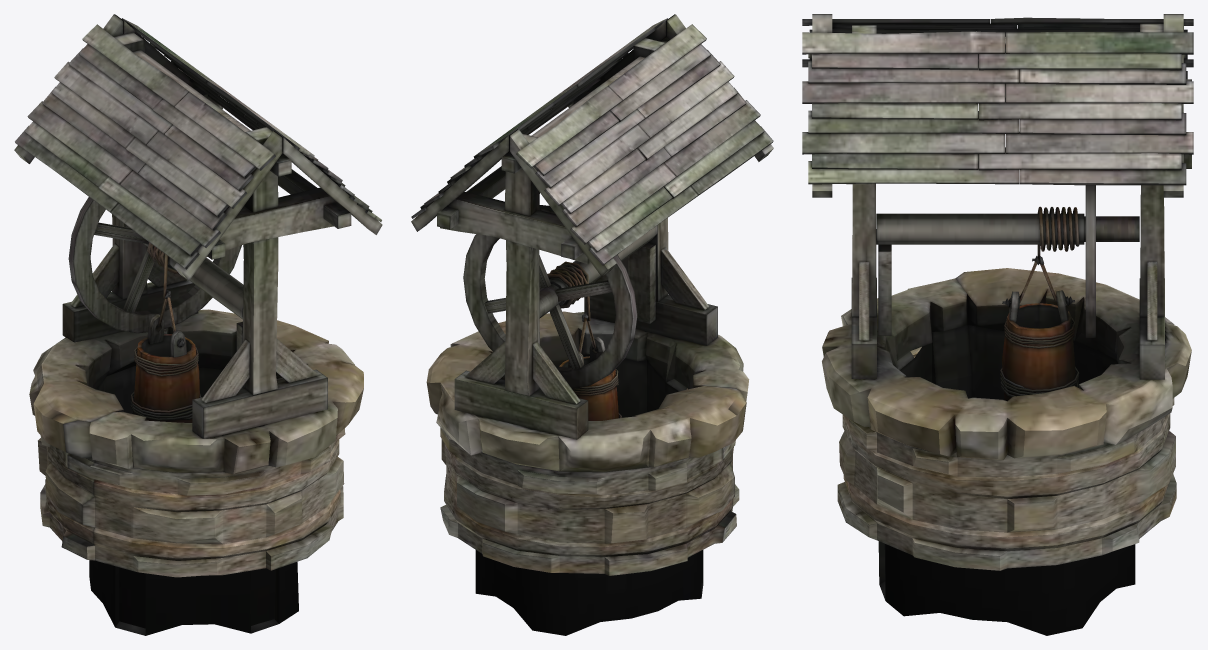
Rendered from p_well_bucket.glb.
The picture shows the model from 3 angles, left to right: view 1: azimuth 30°, elevation 25°; view 2: azimuth 150°, elevation 25°; view 3: azimuth 270°, elevation 25°; orthographic projection. The views are drawn at different scales.
Visible parts, largest first — view 1: blinn4; view 2: blinn4; view 3: blinn4.
Boxes of the visible parts, x1=… form: blinn4: x1=14, y1=14, x2=382, y2=635; blinn4: x1=411, y1=14, x2=773, y2=635; blinn4: x1=802, y1=14, x2=1193, y2=635.
Size of the model in its own units: 717 by 1203 by 748.
Materials: 1 (1 with a texture image).
